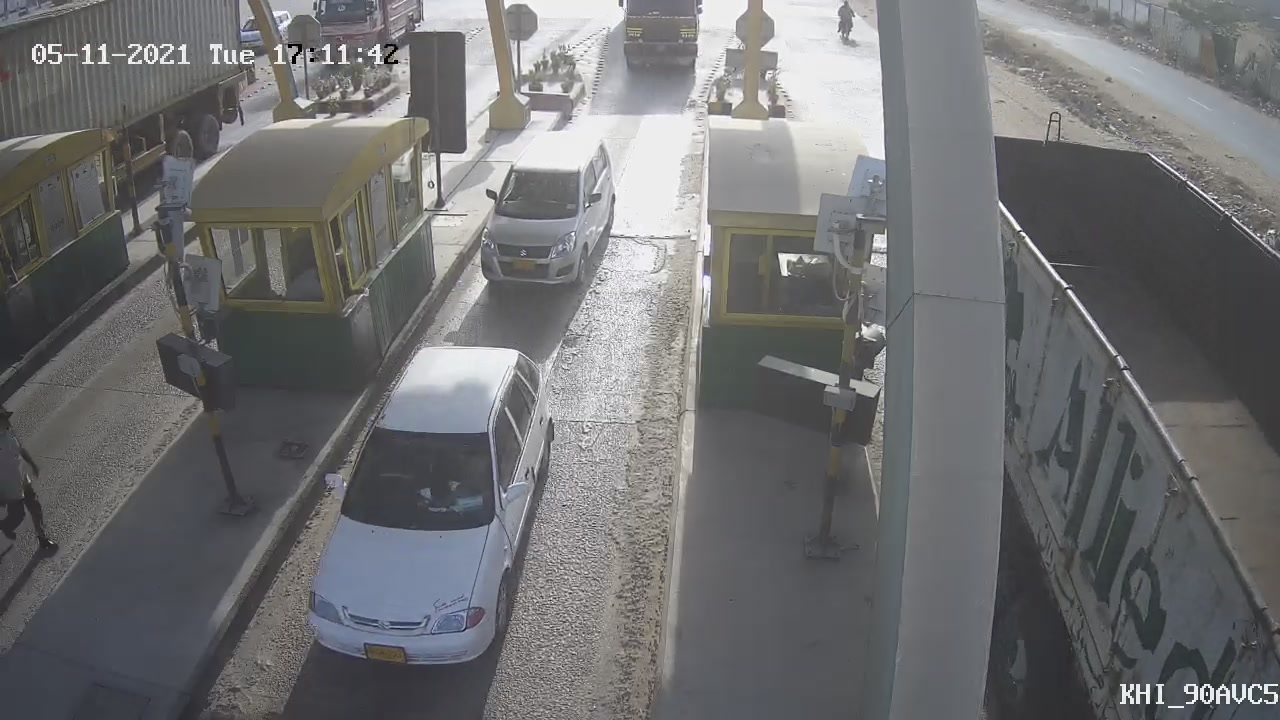F1: (463, 114, 634, 317)
